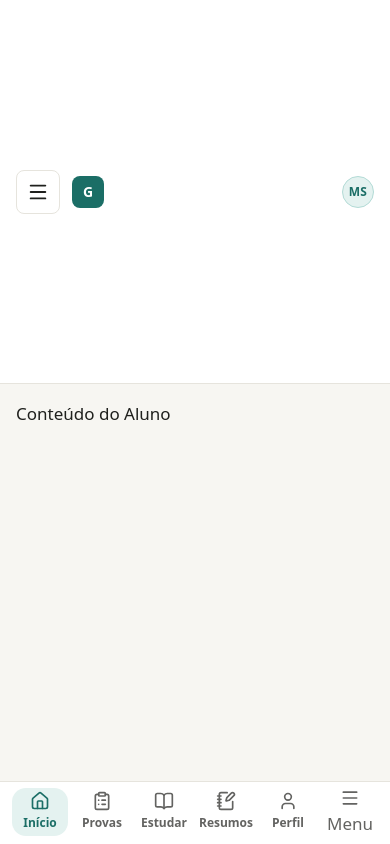
Test case: AppShell - Mobile First › permite abrir o menu a partir do botão Menu na bottom-nav
The width and height of the screenshot is (390, 844).
Note: Botão na bottom-nav
Click the button with aria-label "abrir menu lateral" at coordinates (350, 813), box [322,788,378,838]
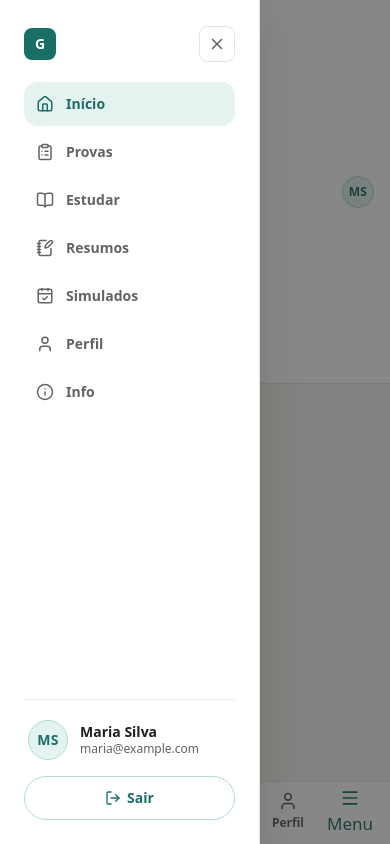
Expected: the element with class "app-shell" has class "app-shell--drawer-open"
